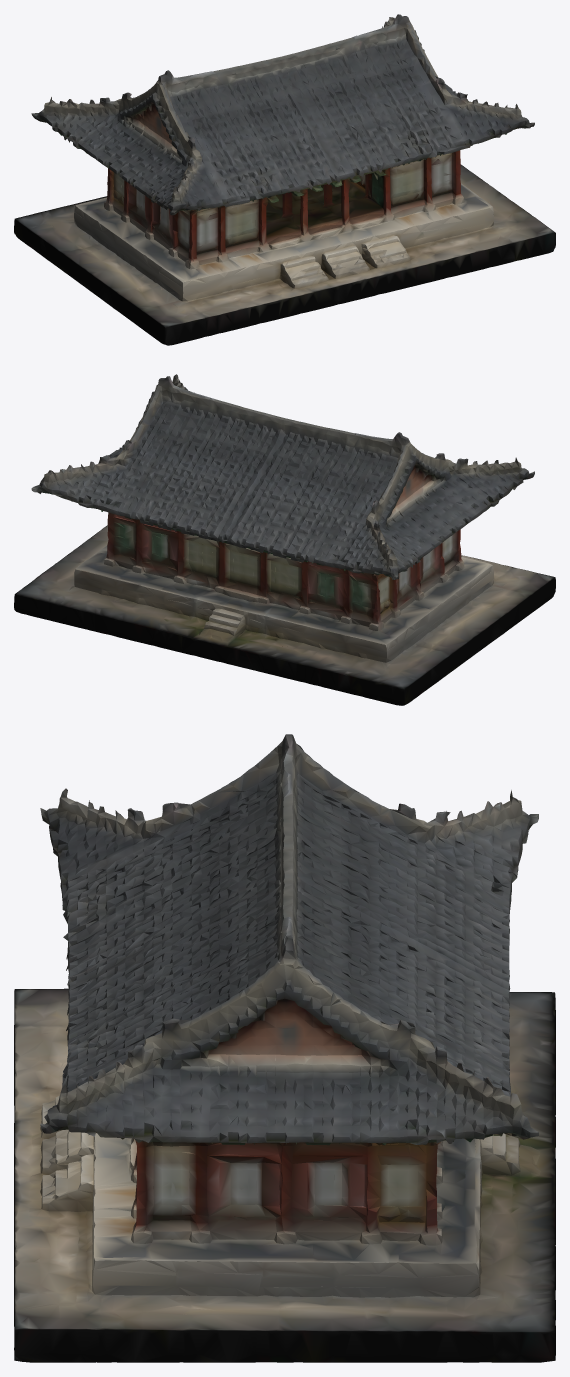
File: jaseondang.glb
3 renders of one model, top to bottom at view 1: azimuth 30°, elevation 25°; view 2: azimuth 150°, elevation 25°; view 3: azimuth 270°, elevation 25°, orthographic. The views are drawn at different scales.
Size of the model in its own units: 1 by 0.4906 by 0.6732.
